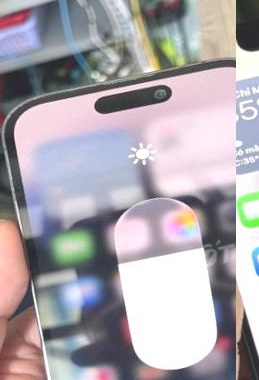scratch: (8, 62, 177, 123)
